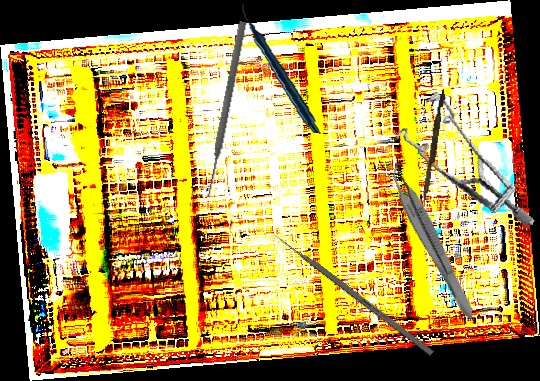Handpiece: (231, 4, 332, 134)
Pusher: (265, 226, 435, 357), (203, 20, 248, 199), (421, 93, 446, 207)
Speculum: (386, 76, 537, 251)
Tissue Forceps: (380, 158, 486, 323)
